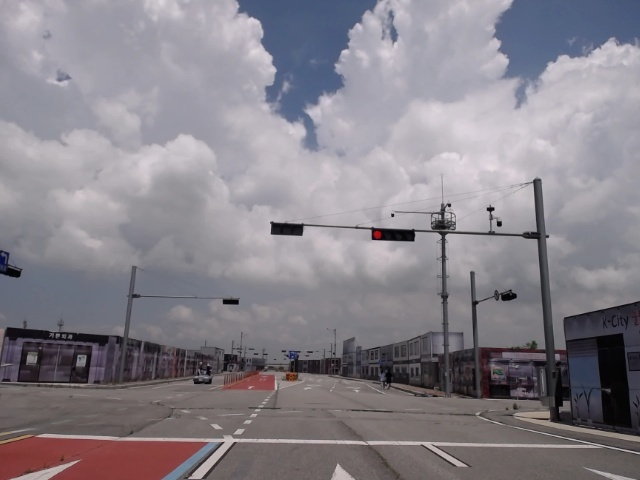red_4: (372, 229, 414, 242)
